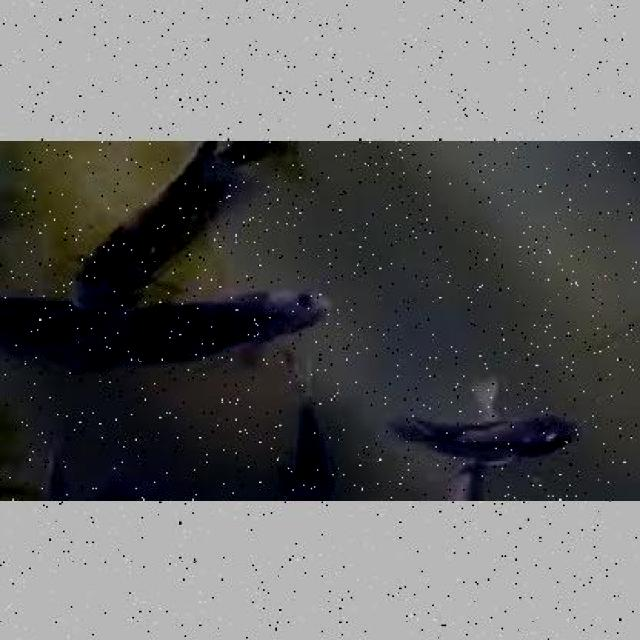gurame: (68, 140, 283, 303), (138, 278, 339, 374), (399, 407, 579, 467)
